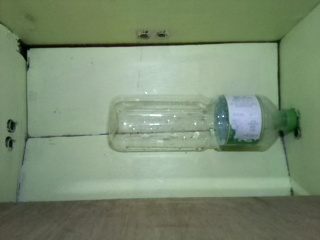bottle: (107, 93, 297, 154)
